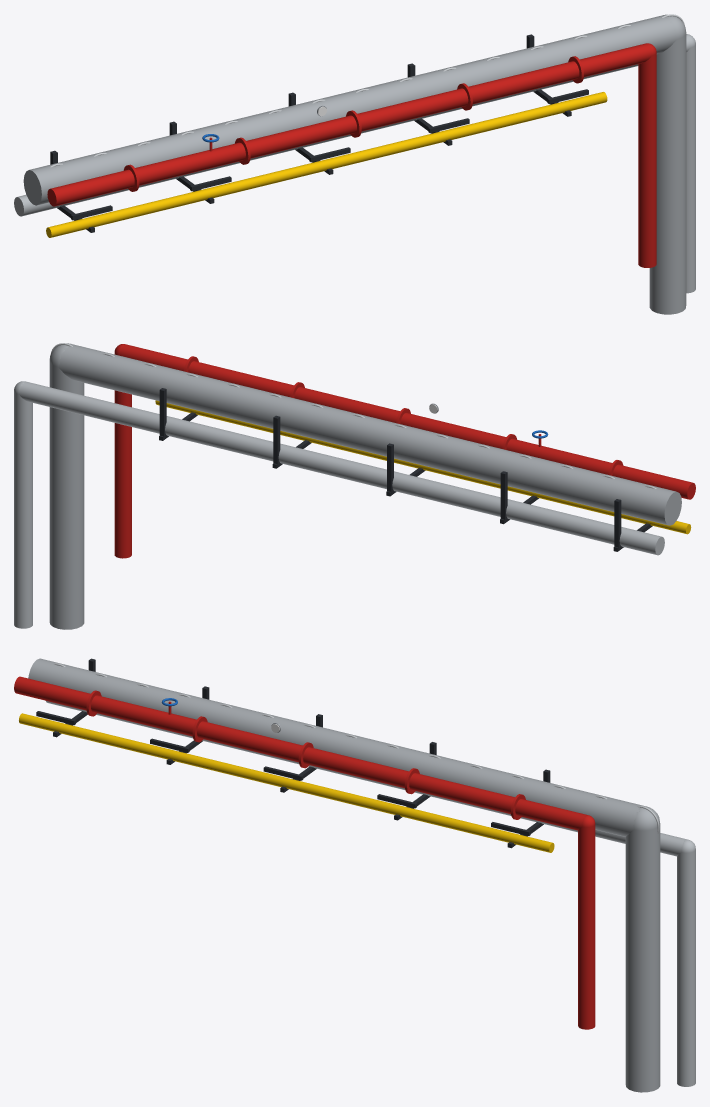
File: Pipe run wall.glb
3 renders of one model, top to bottom at view 1: azimuth 30°, elevation 25°; view 2: azimuth 150°, elevation 25°; view 3: azimuth 330°, elevation 25°, orthographic. The views are drawn at different scales.
Parts seen in each view (by area): view 1: Asset; view 2: Asset; view 3: Asset.
Part boxes in pixels (x1,y1,x2,y2): Asset: (14, 14, 695, 314); Asset: (14, 343, 695, 629); Asset: (14, 658, 695, 1092).
Bounding box in the file's own units: 8.51 × 3.66 × 1.02.
